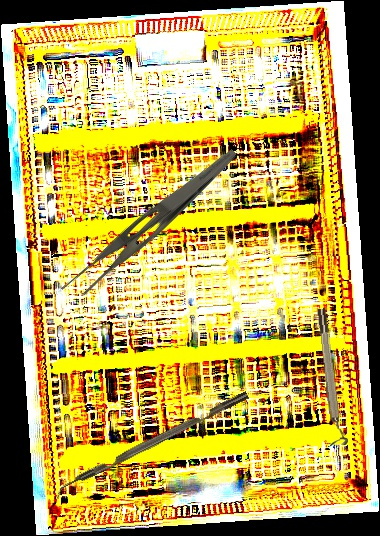Chopper: (51, 391, 254, 503)
Dressing Forceps: (58, 130, 239, 312)
Fixation Ring: (314, 307, 349, 447)
